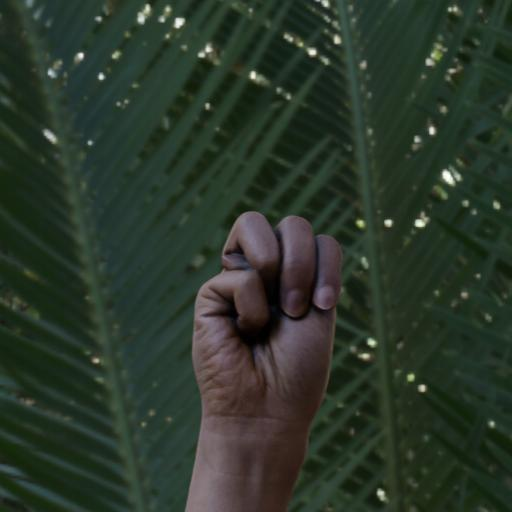M: (188, 204, 350, 440)
